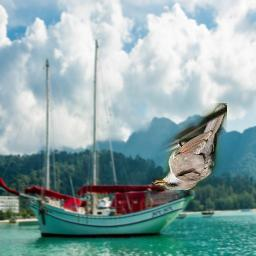Cuckoo: (152, 103, 227, 190)
